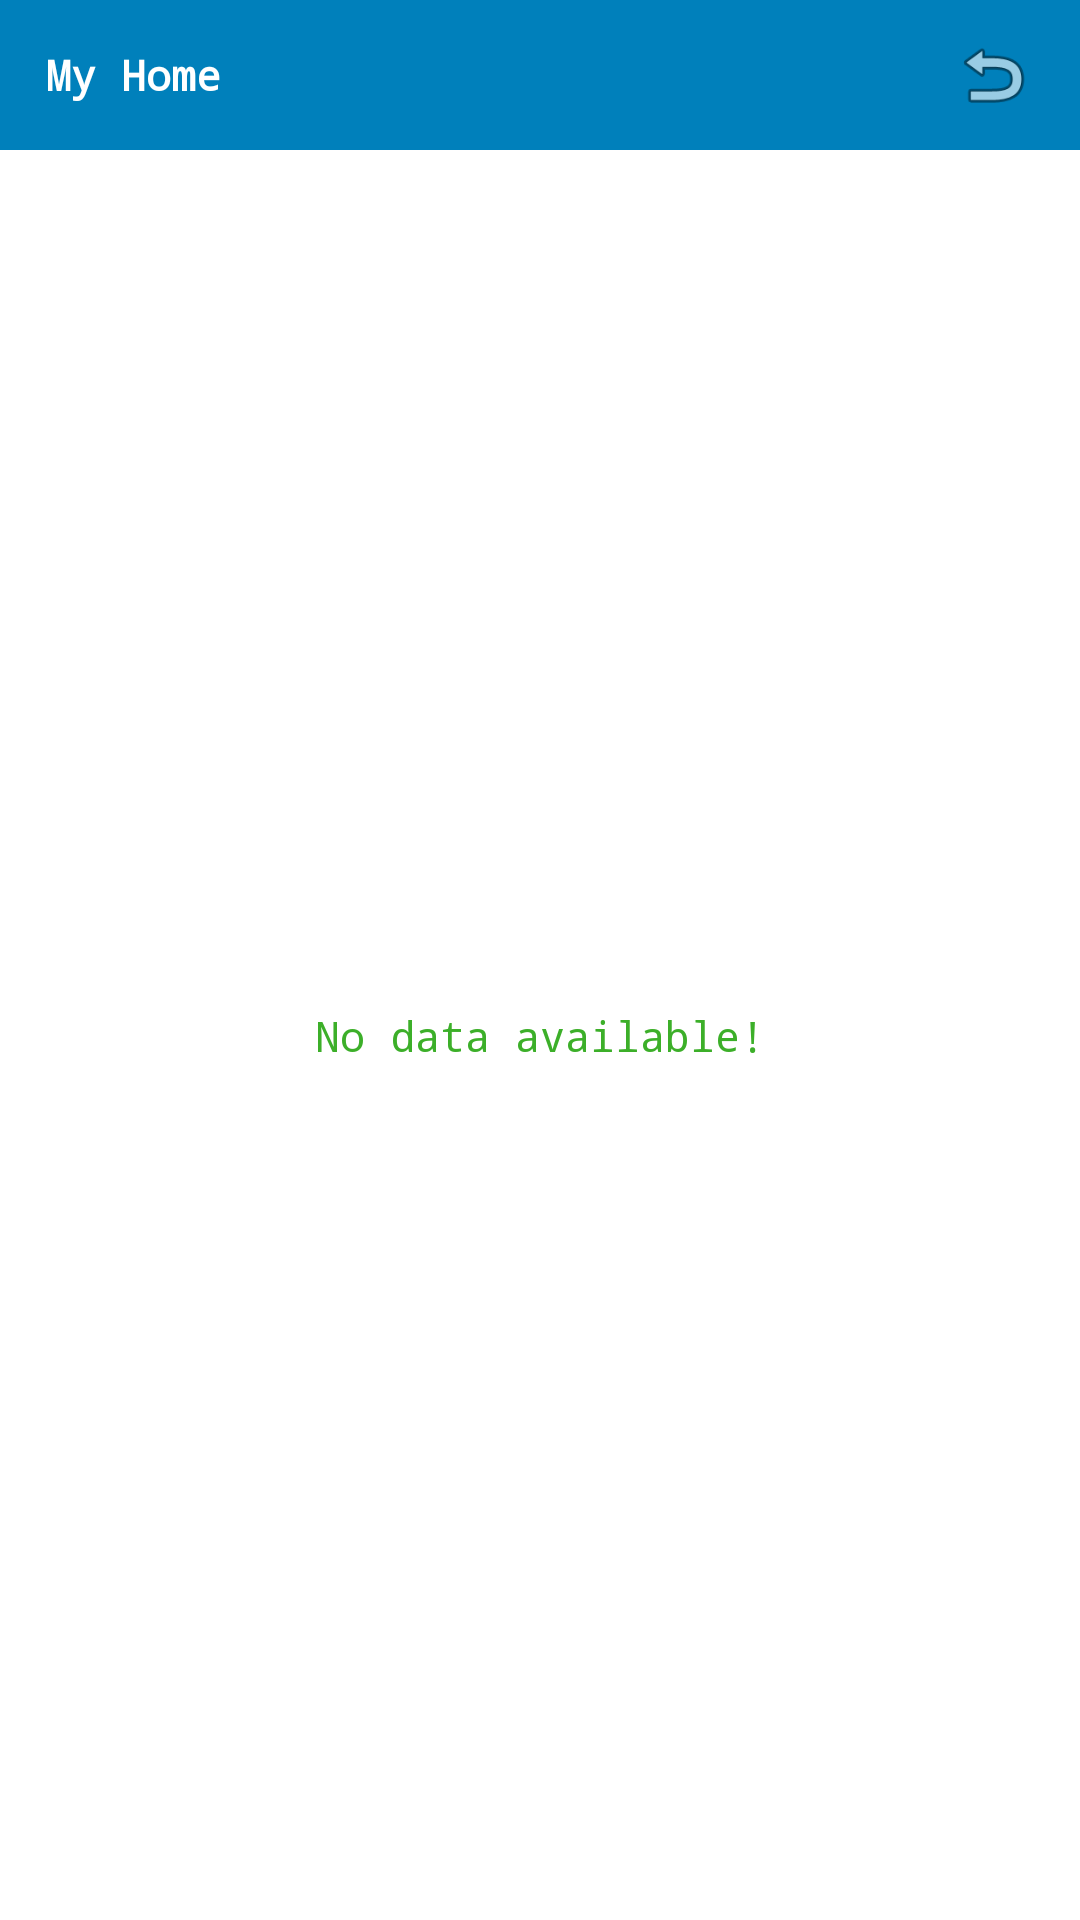

Icon click points for this 1080w x 1920h phone screenshot, format [x,y]:
revert: [994,75]
